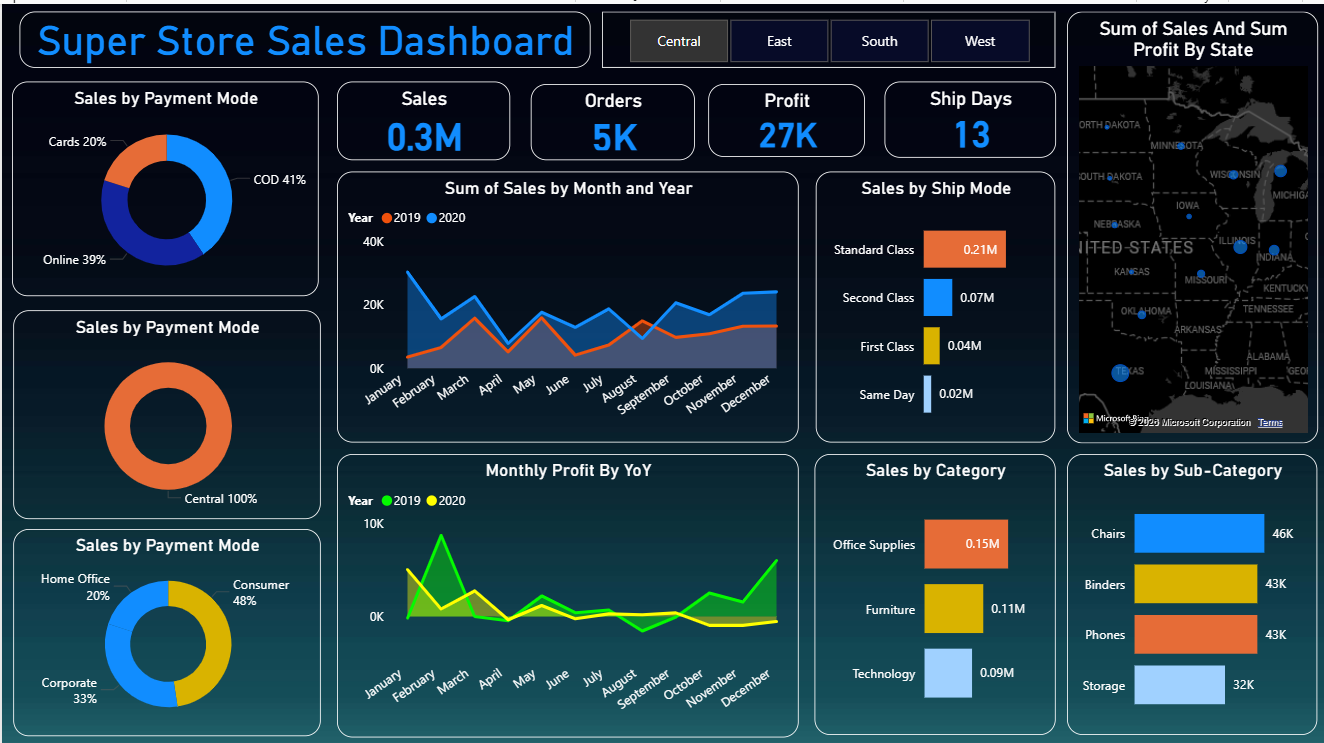

The dashboard page shown, as its layout file describes it:
{"tool":"powerbi","page":{"name":"Sales Overview ","canvas":[1280,720],"ordinal":0},"visuals":[{"type":"textbox","title":"Super Store Sales Dashboard","box":[17.3,7.2,550.8,54.7],"z":0},{"type":"slicer","fields":{"Values":["SuperStore_Sales_Dataset.Region"]},"box":[579.6,7.2,437.2,54.7],"z":1000},{"type":"card","title":"Orders","fields":{"Values":["Sum(SuperStore_Sales_Dataset.Quantity)"]},"box":[510.6,77.7,158.2,73.3],"z":2000},{"type":"card","title":"Sales","fields":{"Values":["Sum(SuperStore_Sales_Dataset.Sales)"]},"box":[323.6,74.8,166.8,76.2],"z":3000},{"type":"card","title":"Profit","fields":{"Values":["Sum(SuperStore_Sales_Dataset.Profit)"]},"box":[681.7,77.7,151,70.5],"z":4000},{"type":"card","title":"Ship Days","fields":{"Values":["Avg(SuperStore_Sales_Dataset.AvgDelivery)"]},"box":[851.4,74.8,165.4,73.3],"z":5000},{"type":"donutChart","title":"Sales by Payment Mode","fields":{"Y":["Sum(SuperStore_Sales_Dataset.Sales)"],"Category":["SuperStore_Sales_Dataset.Payment Mode"]},"box":[10.1,74.8,296.3,207.1],"z":6000},{"type":"donutChart","title":"Sales by Payment Mode","fields":{"Y":["Sum(SuperStore_Sales_Dataset.Sales)"],"Category":["SuperStore_Sales_Dataset.Region"]},"box":[10.4,295.2,296.6,201.7],"z":7000},{"type":"donutChart","title":"Sales by Payment Mode","fields":{"Y":["Sum(SuperStore_Sales_Dataset.Sales)"],"Category":["SuperStore_Sales_Dataset.Segment"]},"box":[10.4,507.3,296.6,200.2],"z":8000},{"type":"clusteredBarChart","title":"Sales by Ship Mode","fields":{"Y":["Sum(SuperStore_Sales_Dataset.Sales)"],"Category":["SuperStore_Sales_Dataset.Ship Mode"]},"box":[785.3,161.1,231.6,261.8],"z":9000},{"type":"clusteredBarChart","title":"Sales by Category","fields":{"Y":["Sum(SuperStore_Sales_Dataset.Sales)"],"Category":["SuperStore_Sales_Dataset.Category"]},"box":[784.6,434.6,232.9,271.4],"z":10000},{"type":"clusteredBarChart","title":"Sales by Sub-Category","fields":{"Y":["Sum(SuperStore_Sales_Dataset.Sales)"],"Category":["SuperStore_Sales_Dataset.Sub-Category"]},"box":[1027.9,434.6,241.8,271.4],"z":11000},{"type":"areaChart","fields":{"Y":["Sum(SuperStore_Sales_Dataset.Sales)"],"Category":["SuperStore_Sales_Dataset.Order Date.Variation.Date Hierarchy.Month"],"Series":["SuperStore_Sales_Dataset.Order Date.Variation.Date Hierarchy.Year"]},"box":[323.6,161.1,445.8,261.8],"z":12000},{"type":"map","title":"Sum of Sales And Sum Profit By State","fields":{"Category":["SuperStore_Sales_Dataset.State"],"Size":["Sum(SuperStore_Sales_Dataset.Sales)"]},"box":[1027.6,7.1,242.4,416.7],"z":13000},{"type":"areaChart","title":"Monthly Profit By YoY","fields":{"Category":["SuperStore_Sales_Dataset.Order Date.Variation.Date Hierarchy.Month"],"Series":["SuperStore_Sales_Dataset.Order Date.Variation.Date Hierarchy.Year"],"Y":["Sum(SuperStore_Sales_Dataset.Profit)"]},"box":[323.6,434.3,445.8,273.3],"z":14000}]}

Visuals, with their boxes in screenshot pixels (x1, y1, x2, y2), scaled from the page's 1280x720 canvas onto the 1324x743 screenshot:
"Super Store Sales Dashboard" textbox: 18:7:588:64
slicer - SuperStore_Sales_Dataset.Region: 600:7:1052:64
"Orders" card: 528:80:692:156
"Sales" card: 335:77:507:156
"Profit" card: 705:80:861:153
"Ship Days" card: 881:77:1052:153
"Sales by Payment Mode" donutChart: 10:77:317:291
"Sales by Payment Mode" donutChart: 11:305:318:513
"Sales by Payment Mode" donutChart: 11:524:318:730
"Sales by Ship Mode" clusteredBarChart: 812:166:1052:436
"Sales by Category" clusteredBarChart: 812:448:1052:729
"Sales by Sub-Category" clusteredBarChart: 1063:448:1313:729
areaChart - Sum(SuperStore_Sales_Dataset.Sales) x SuperStore_Sales_Dataset.Order Date.Variation.Date Hierarchy.Month: 335:166:796:436
"Sum of Sales And Sum Profit By State" map: 1063:7:1314:437
"Monthly Profit By YoY" areaChart: 335:448:796:730
